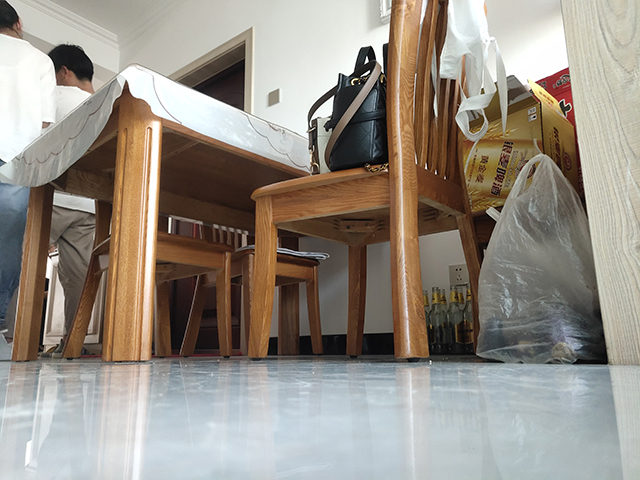stool: (247, 1, 487, 365), (59, 200, 333, 362)
table: (1, 61, 318, 364)
